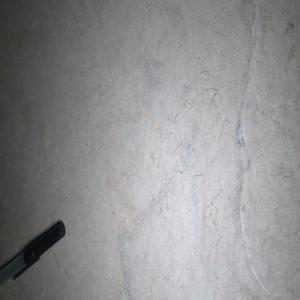Pen: (0, 221, 65, 286)
